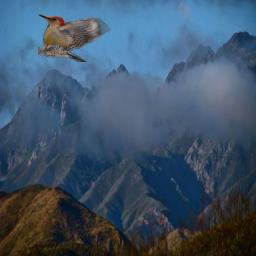Woodpecker: (39, 14, 112, 63)
